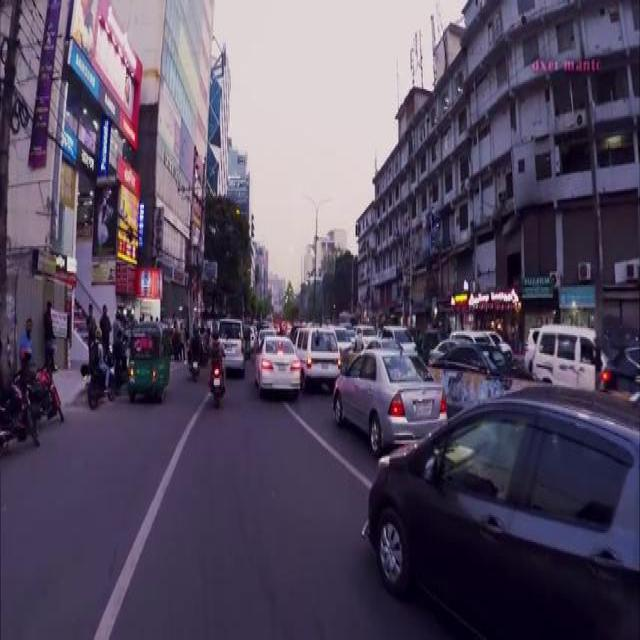car: (366, 382, 639, 634), (330, 346, 445, 446), (430, 338, 532, 379), (253, 334, 300, 391), (352, 319, 375, 342), (334, 323, 351, 351)
motorcycle: (127, 319, 168, 398), (0, 364, 38, 449), (31, 355, 62, 417), (85, 353, 115, 405), (209, 352, 225, 399), (188, 342, 199, 376)
truck: (531, 319, 606, 383), (292, 321, 340, 380), (216, 314, 244, 367), (380, 319, 415, 353)
